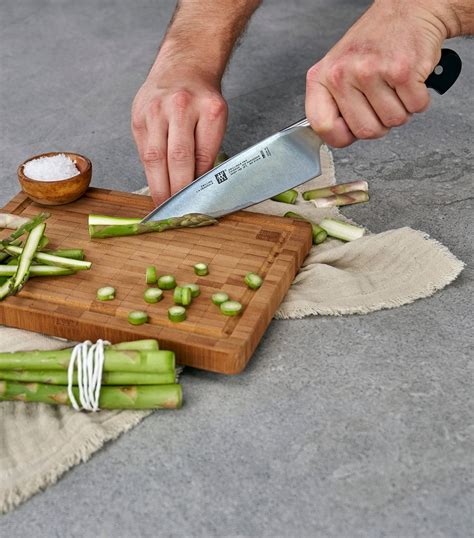knife: (134, 113, 336, 224)
